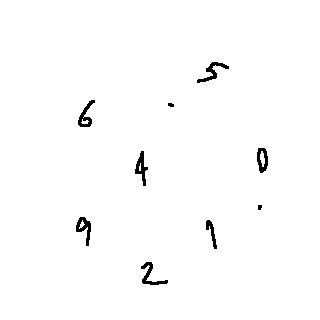.: (255, 200, 268, 217), (163, 99, 180, 110)
0: (251, 143, 275, 180)
1: (202, 210, 219, 260)
2: (136, 257, 175, 292)
4: (129, 148, 156, 191)
5: (195, 56, 233, 89)
6: (72, 92, 101, 138)
9: (69, 215, 99, 256)
